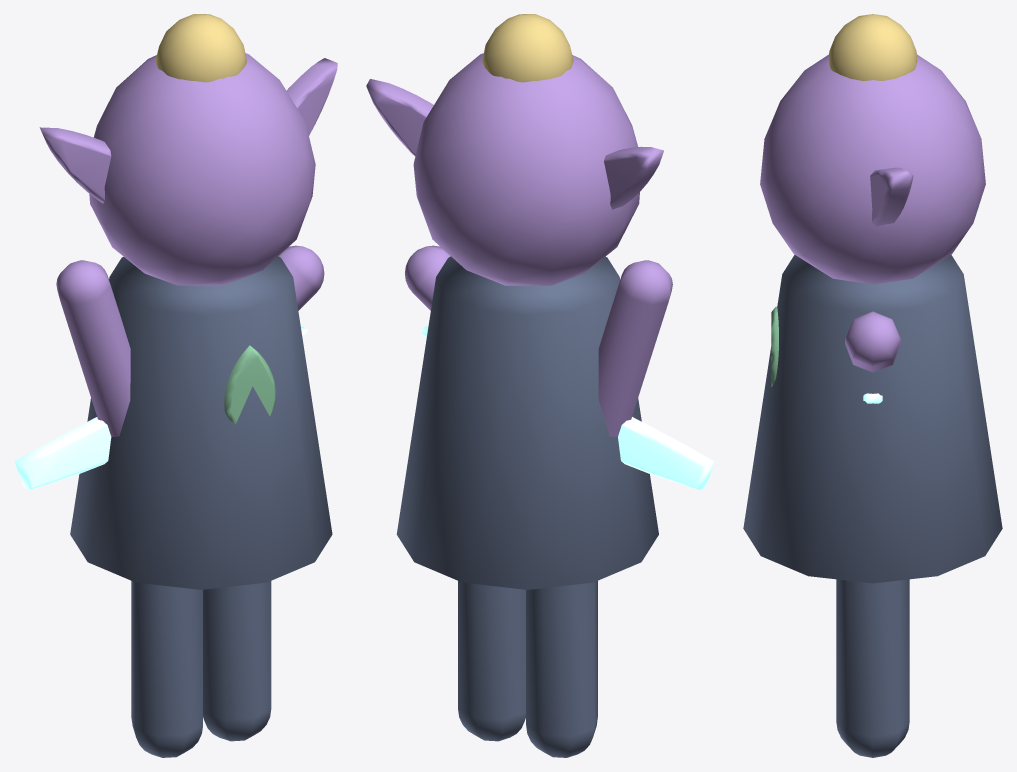
Rendered from elf.glb.
3 renders of one model, left to right at view 1: azimuth 30°, elevation 25°; view 2: azimuth 150°, elevation 25°; view 3: azimuth 270°, elevation 25°, orthographic.
Bounding box in the file's own units: 1.75 × 3.68 × 1.2.
